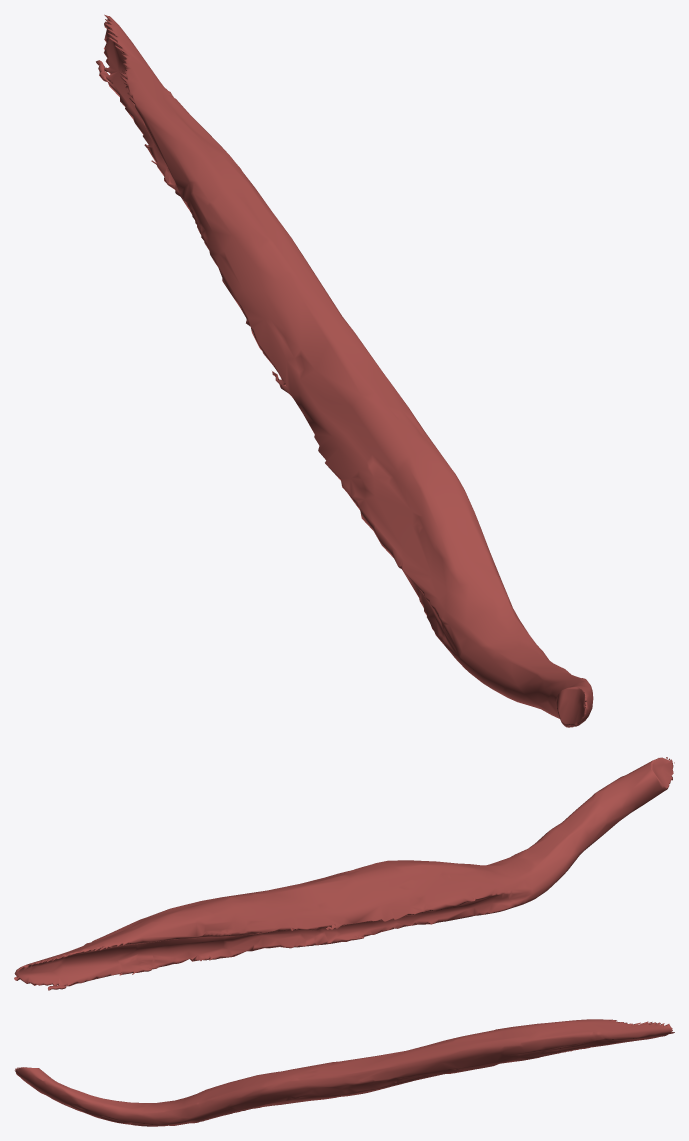
The model's file is FMA37717.glb.
3 views of the same model, one above another, from view 1: azimuth 30°, elevation 25°; view 2: azimuth 150°, elevation 25°; view 3: azimuth 270°, elevation 25° (orthographic). The views are drawn at different scales.
Parts seen in each view (by area): view 1: FMA37717; view 2: FMA37717; view 3: FMA37717.
Part boxes in pixels (x1,y1,x2,y2): FMA37717: (96,14,593,727); FMA37717: (14,757,674,990); FMA37717: (14,1019,674,1126).
Size of the model in its own units: 0.0152 by 0.0197 by 0.0914.
